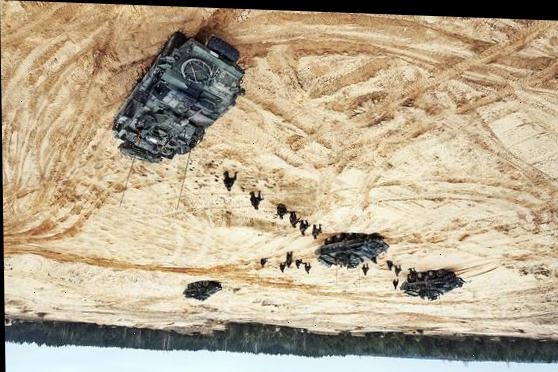armored_car: (104, 29, 249, 167), (312, 231, 394, 274), (398, 264, 464, 306)
